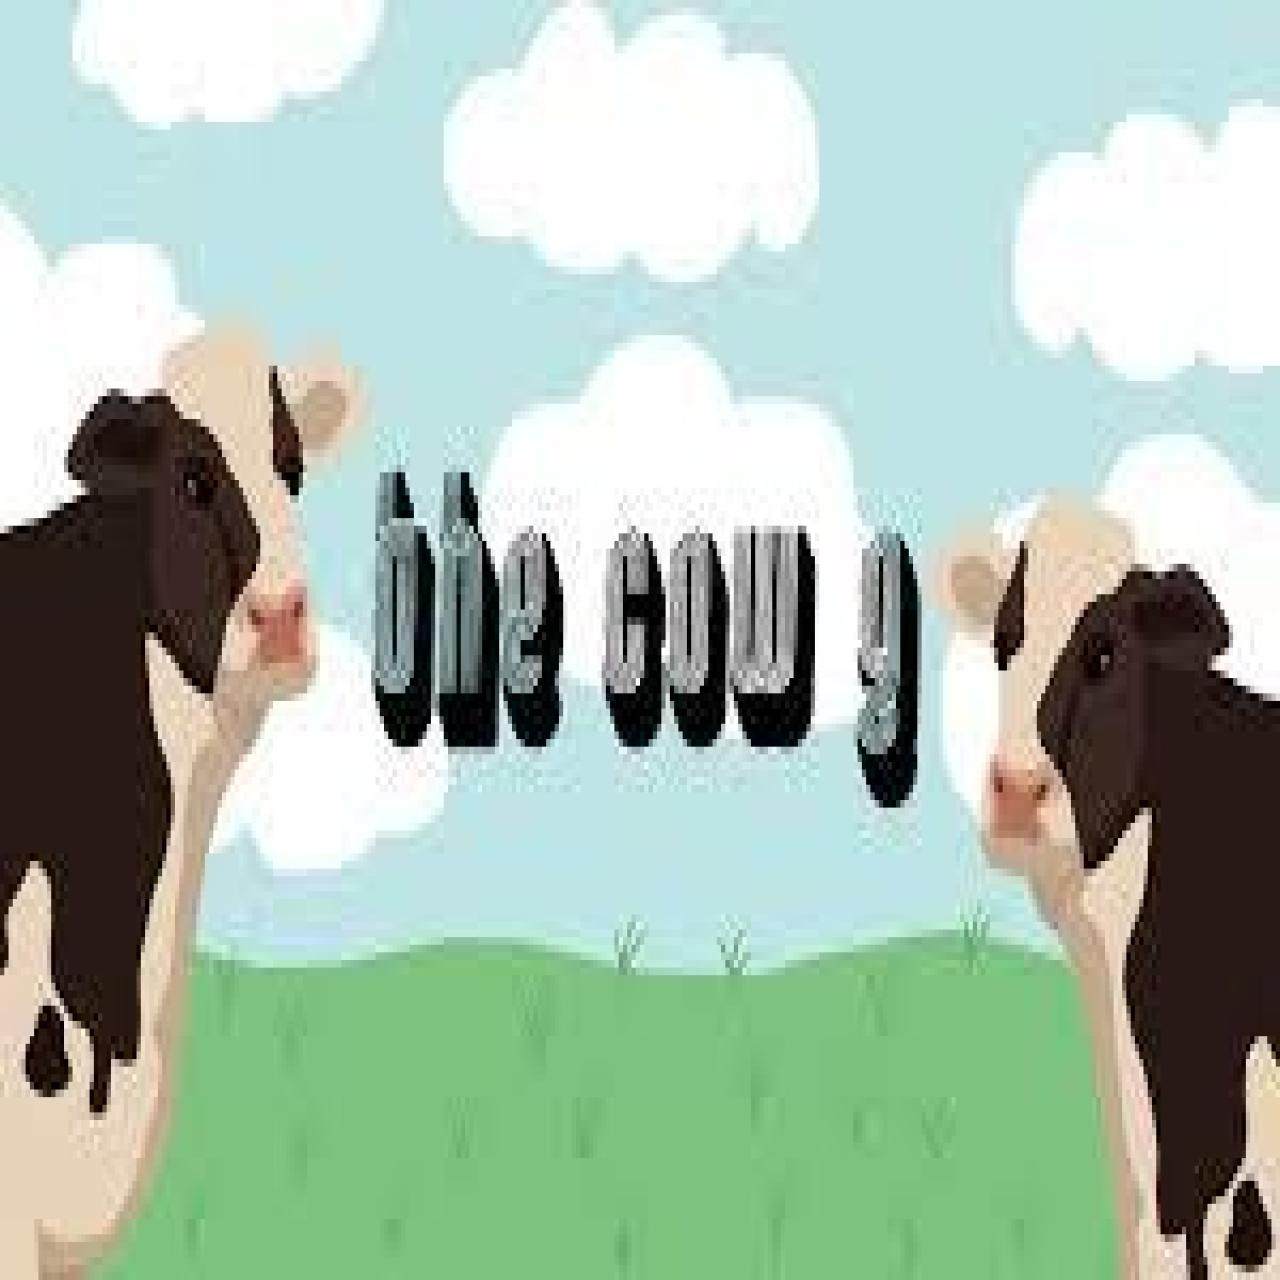cow: (0, 327, 358, 1280), (938, 510, 1280, 1279)
